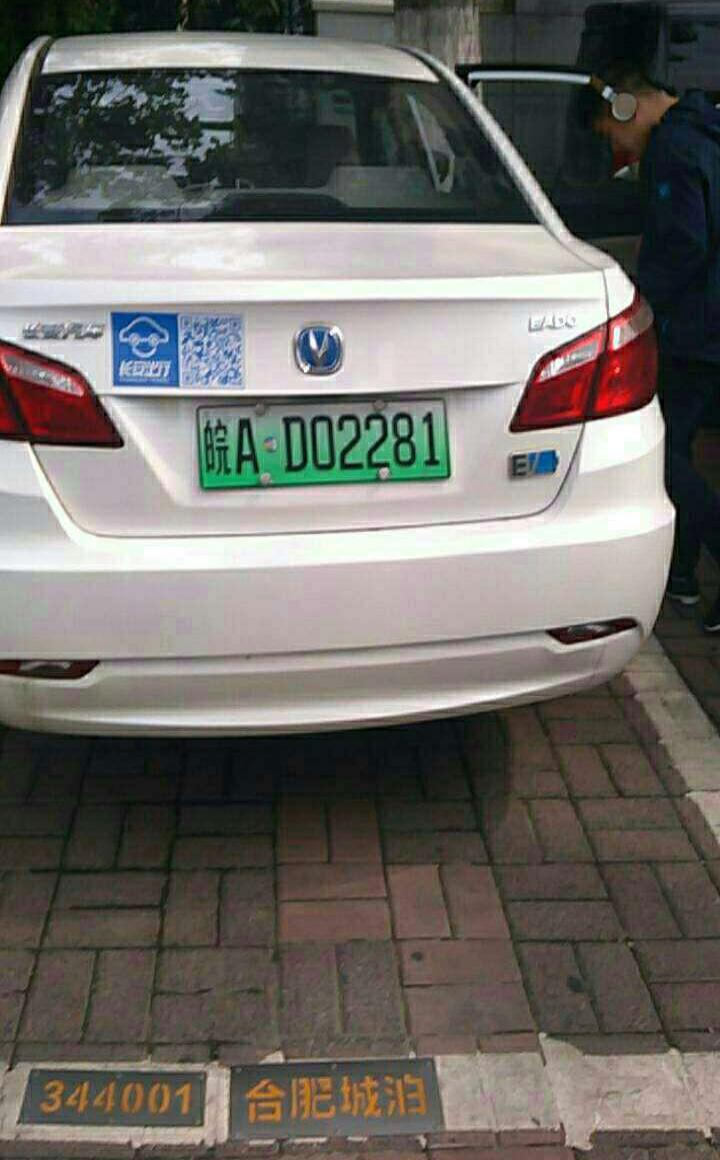car_id: (201, 404, 450, 483)
